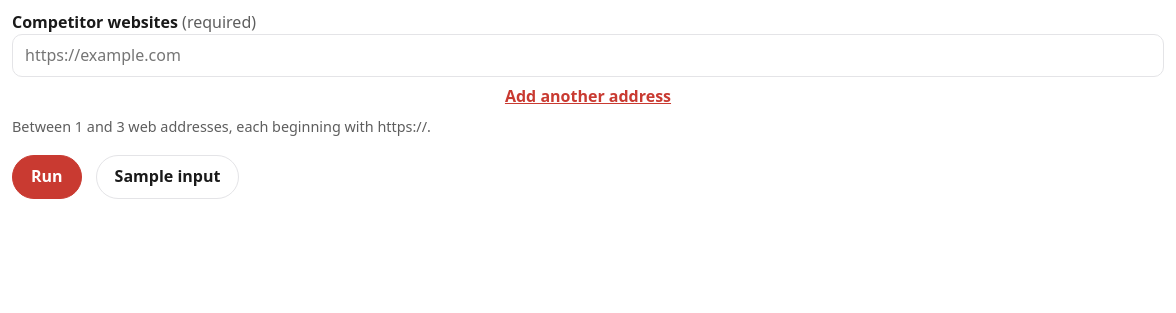
Test case: InputForm: url list › starts with one address and allows up to three
The width and height of the screenshot is (1176, 313).
Expected: the number of fields is 1, [12, 34, 1164, 77]
Click the button "Add another address": (588, 97) [12, 83, 1164, 111]
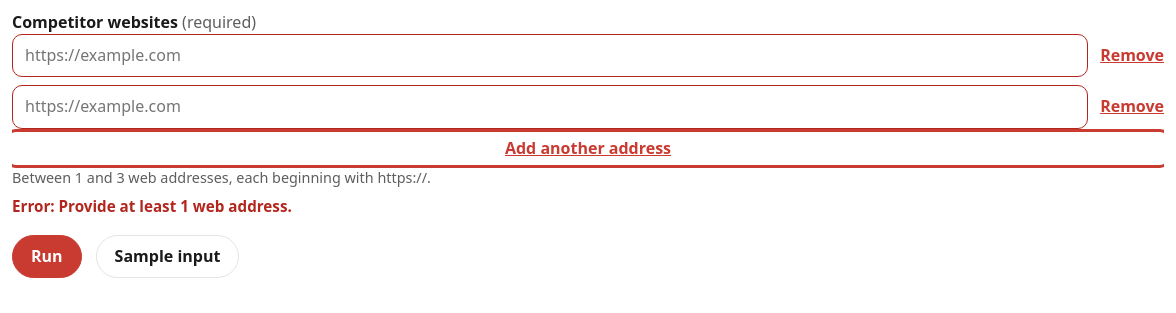
Click the button "Add another address": (588, 148) [12, 135, 1164, 162]
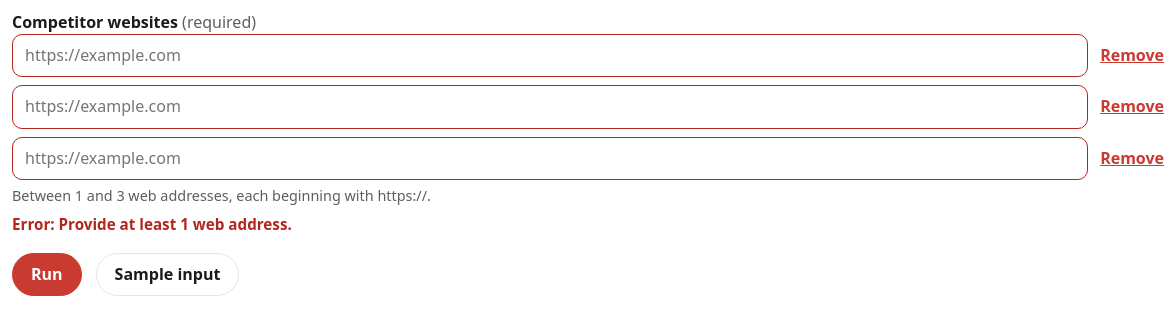
Expected: the number of fields is 3, [12, 34, 1088, 77]; [12, 85, 1088, 129]; [12, 137, 1088, 180]
Now the button "Add another address" is gone
